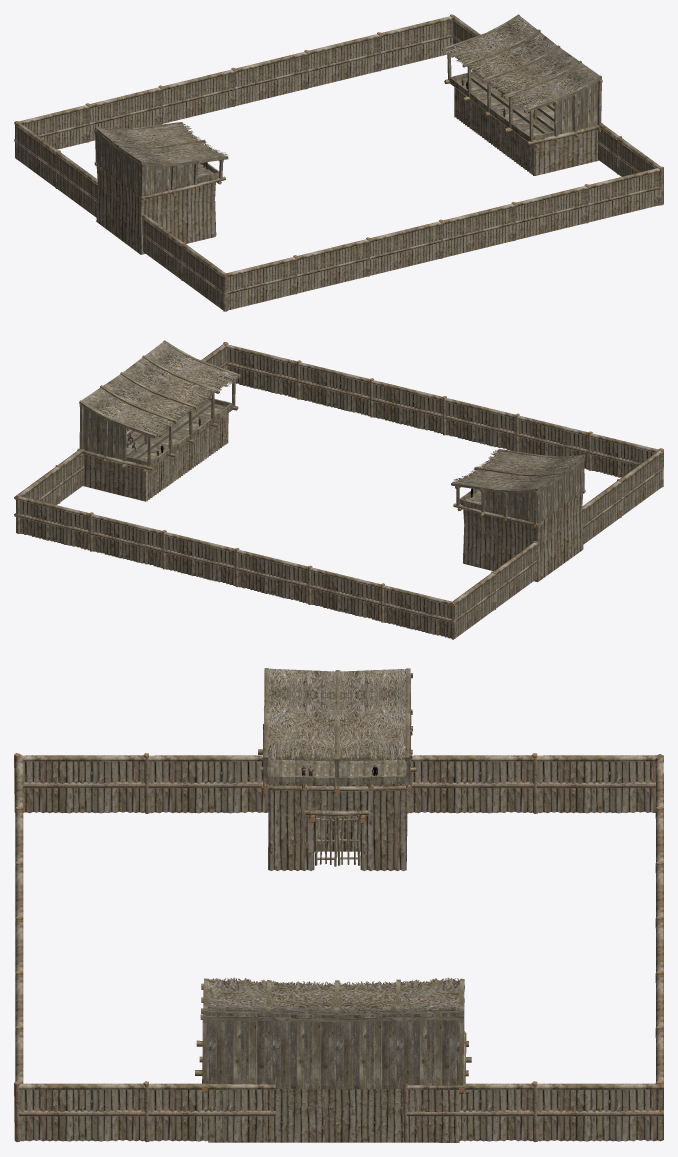
The model's file is arena_0.FBX.
3 views of the same model, one above another, from view 1: azimuth 30°, elevation 25°; view 2: azimuth 150°, elevation 25°; view 3: azimuth 270°, elevation 25° (orthographic). The views are drawn at different scales.
Visible parts, largest first — view 1: DrawCall_0044, DrawCall_0036, DrawCall_0051, DrawCall_0052, DrawCall_0035, DrawCall_0043, DrawCall_190, DrawCall_172, DrawCall_192, DrawCall_170, DrawCall_166, DrawCall_194 (+13 smaller); view 2: DrawCall_0044, DrawCall_0036, DrawCall_0051, DrawCall_0052, DrawCall_0035, DrawCall_0043, DrawCall_192, DrawCall_194, DrawCall_190, DrawCall_168, DrawCall_172, DrawCall_170 (+12 smaller); view 3: DrawCall_0036, DrawCall_0043, DrawCall_0051, DrawCall_0052, DrawCall_0044, DrawCall_203, DrawCall_201, DrawCall_176, DrawCall_184, DrawCall_182, DrawCall_178, DrawCall_199 (+2 smaller).
Part boxes in pixels (x1,y1,x2,y2): DrawCall_0044: [443, 15, 599, 109]; DrawCall_0036: [442, 14, 602, 142]; DrawCall_0051: [95, 162, 225, 254]; DrawCall_0052: [445, 79, 603, 175]; DrawCall_0035: [94, 122, 228, 196]; DrawCall_0043: [97, 123, 227, 162]; DrawCall_190: [162, 68, 235, 123]; DrawCall_172: [515, 185, 588, 240]; DrawCall_192: [235, 51, 308, 105]; DrawCall_170: [442, 203, 515, 257]; DrawCall_166: [297, 238, 370, 293]; DrawCall_194: [308, 33, 381, 88]; DrawCall_0044: [81, 341, 238, 435]; DrawCall_0036: [79, 340, 240, 466]; DrawCall_0051: [453, 489, 584, 582]; DrawCall_0052: [77, 406, 237, 501]; DrawCall_0035: [451, 449, 585, 524]; DrawCall_0043: [452, 450, 582, 489]; DrawCall_192: [162, 531, 235, 585]; DrawCall_194: [89, 513, 162, 568]; DrawCall_190: [235, 549, 308, 603]; DrawCall_168: [442, 397, 515, 451]; DrawCall_172: [297, 361, 370, 416]; DrawCall_170: [370, 379, 442, 433]; DrawCall_0036: [200, 978, 464, 1089]; DrawCall_0043: [268, 668, 407, 761]; DrawCall_0051: [258, 724, 416, 871]; DrawCall_0052: [195, 1031, 471, 1142]; DrawCall_0044: [207, 977, 459, 1014]; DrawCall_203: [531, 1083, 663, 1141]; DrawCall_201: [14, 1083, 145, 1142]; DrawCall_176: [14, 755, 145, 813]; DrawCall_184: [532, 755, 663, 813]; DrawCall_182: [406, 755, 533, 813]; DrawCall_178: [143, 755, 268, 813]; DrawCall_199: [143, 1083, 275, 1142].
Size of the model in its own units: 206 by 41.95 by 170.
